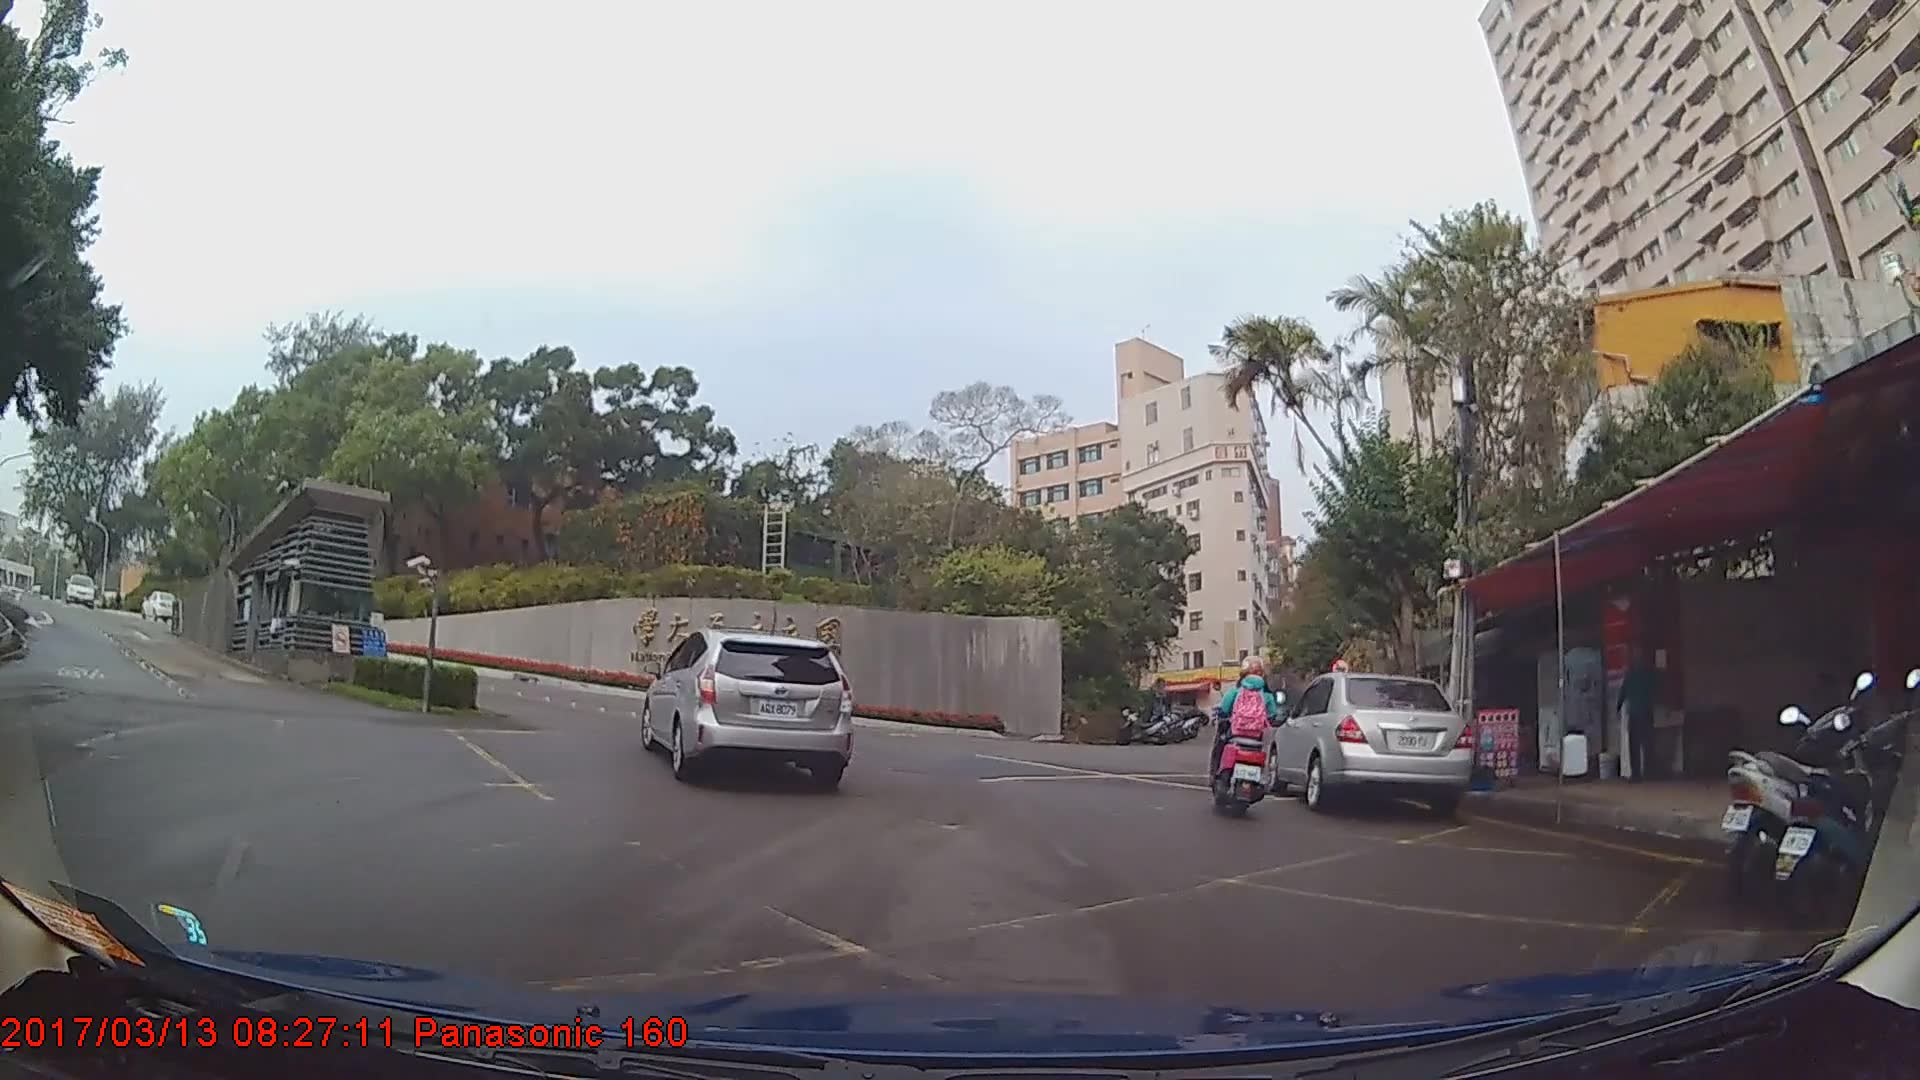pedestrian: (1611, 637, 1666, 780)
rider: (1206, 662, 1282, 830)
vehicle: (639, 629, 850, 790), (1265, 673, 1475, 811), (62, 571, 98, 607), (140, 592, 178, 622)
